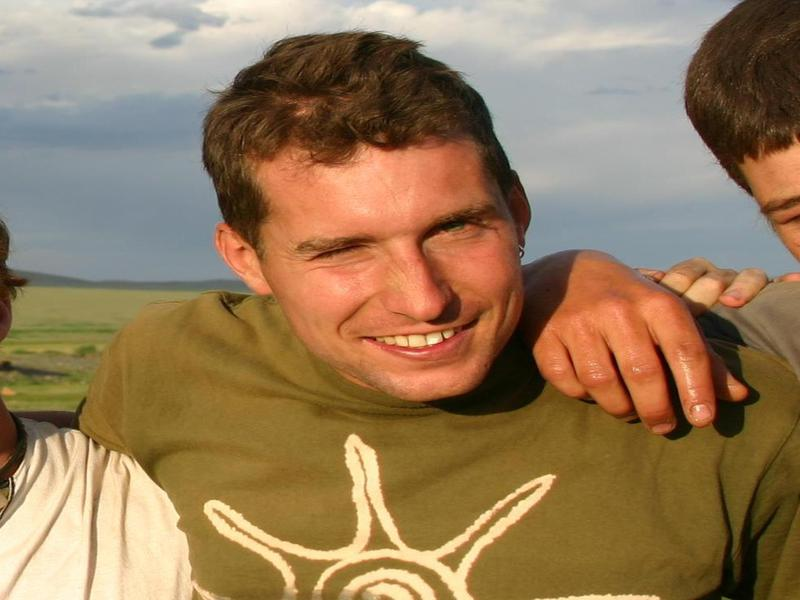person: (75, 26, 800, 596), (517, 2, 800, 428), (1, 221, 197, 600)
